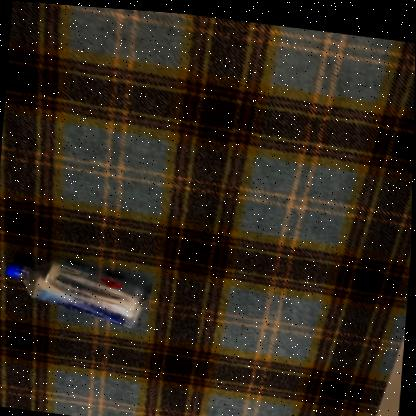Plastic: (4, 259, 144, 324)
